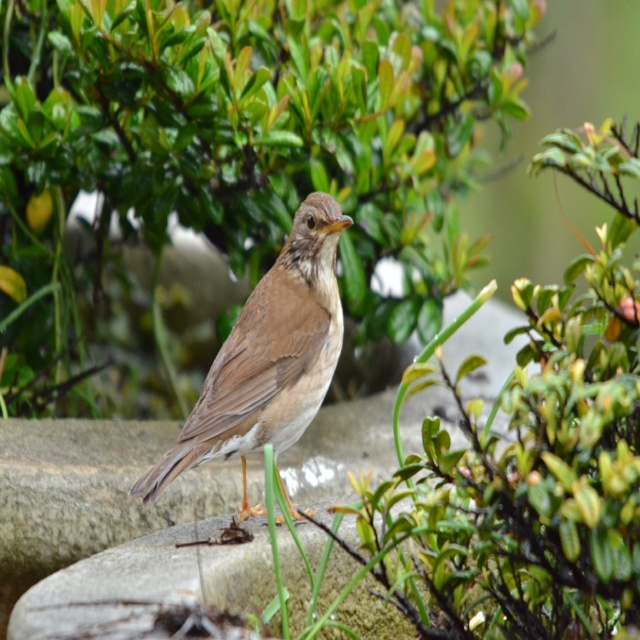Sparrow: (130, 191, 354, 522)
